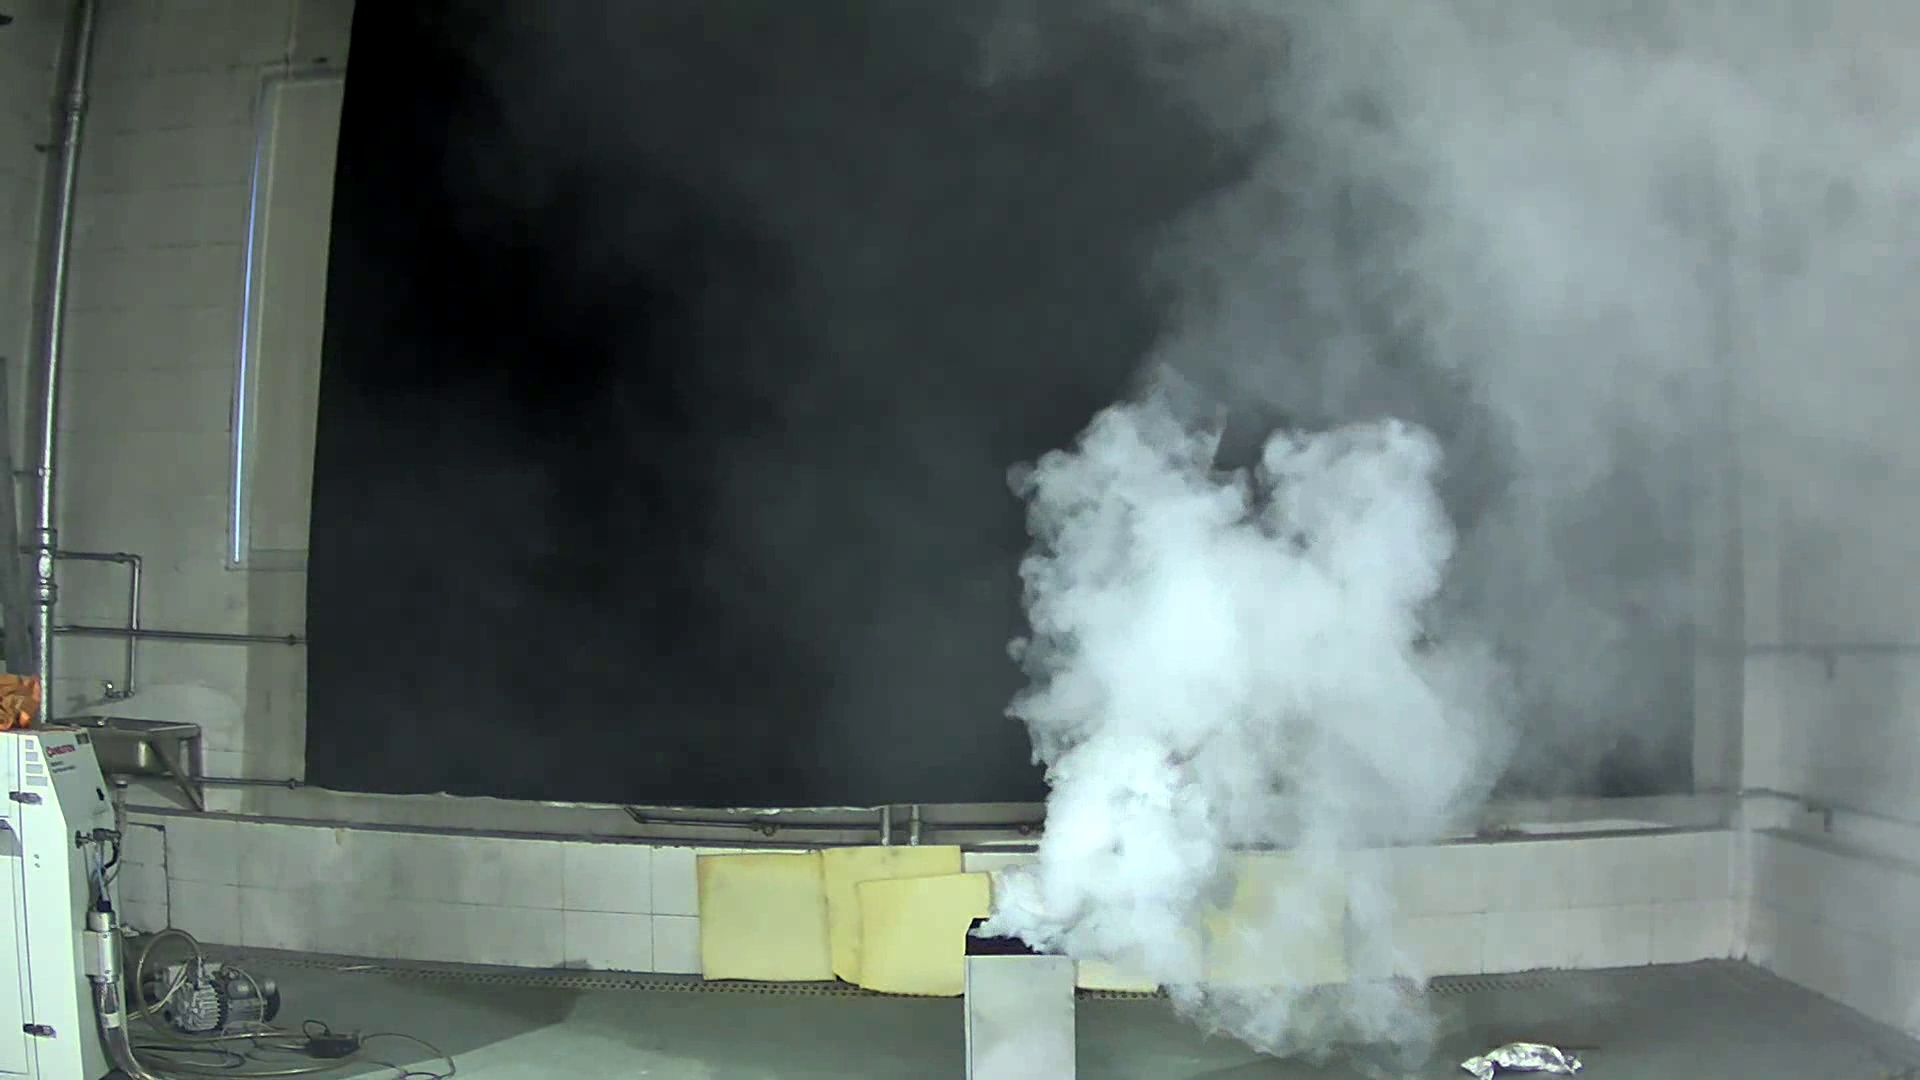smoke: (952, 392, 1481, 1038)
